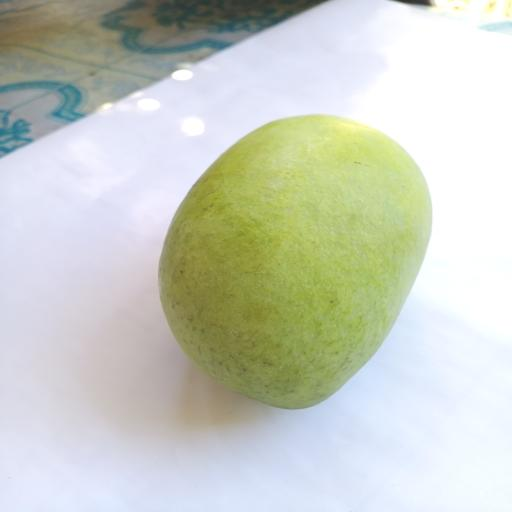mango-unripe: (142, 108, 447, 420)
